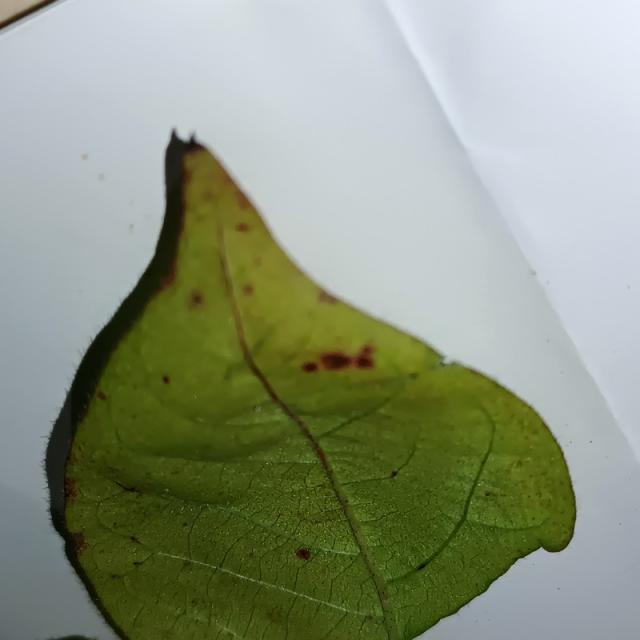Bacterial_Blight: (303, 346, 376, 374), (294, 540, 315, 565), (263, 604, 287, 624), (317, 289, 340, 305), (64, 473, 76, 498), (301, 361, 316, 373), (127, 534, 142, 546), (74, 540, 86, 555), (415, 560, 429, 571), (191, 293, 203, 305), (235, 222, 249, 232), (243, 284, 253, 295), (96, 391, 106, 401), (161, 375, 170, 385), (364, 614, 374, 623), (390, 470, 399, 478), (247, 551, 255, 560), (485, 491, 493, 497), (343, 498, 349, 506)
Cotton: (64, 135, 574, 639)
